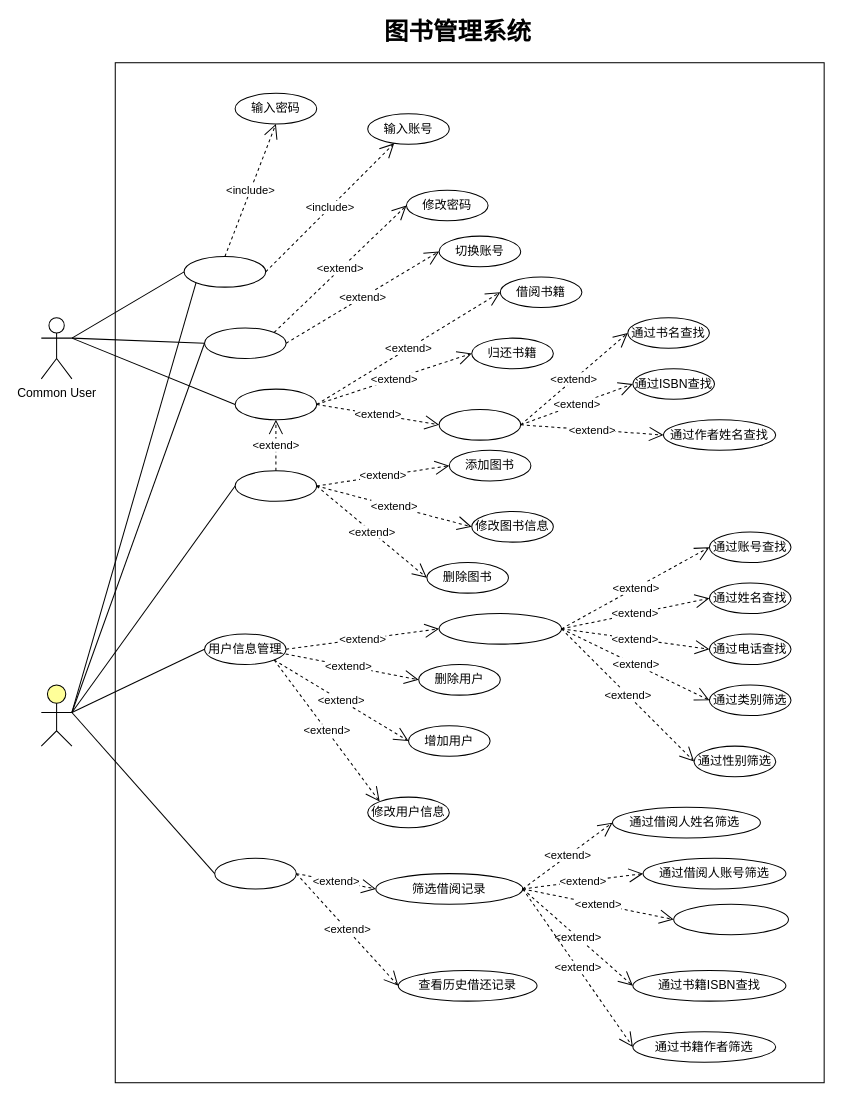
This 843x1101 diagram has some shape labels left out. The shapes that lost their labels are listed below. From the top down, each one's centre as x and y in pixels, then its label:
At (x=224, y=271): "登录操作".
At (x=244, y=343): "个人账号操作".
At (x=275, y=404): "书籍操作".
At (x=479, y=424): "书籍查找".
At (x=275, y=485): "书籍管理".
At (x=500, y=628): "用户查找和筛选".
At (x=56, y=715): "Manager".
At (x=255, y=873): "借阅记录管理".
At (x=730, y=919): "通过书名筛选".
